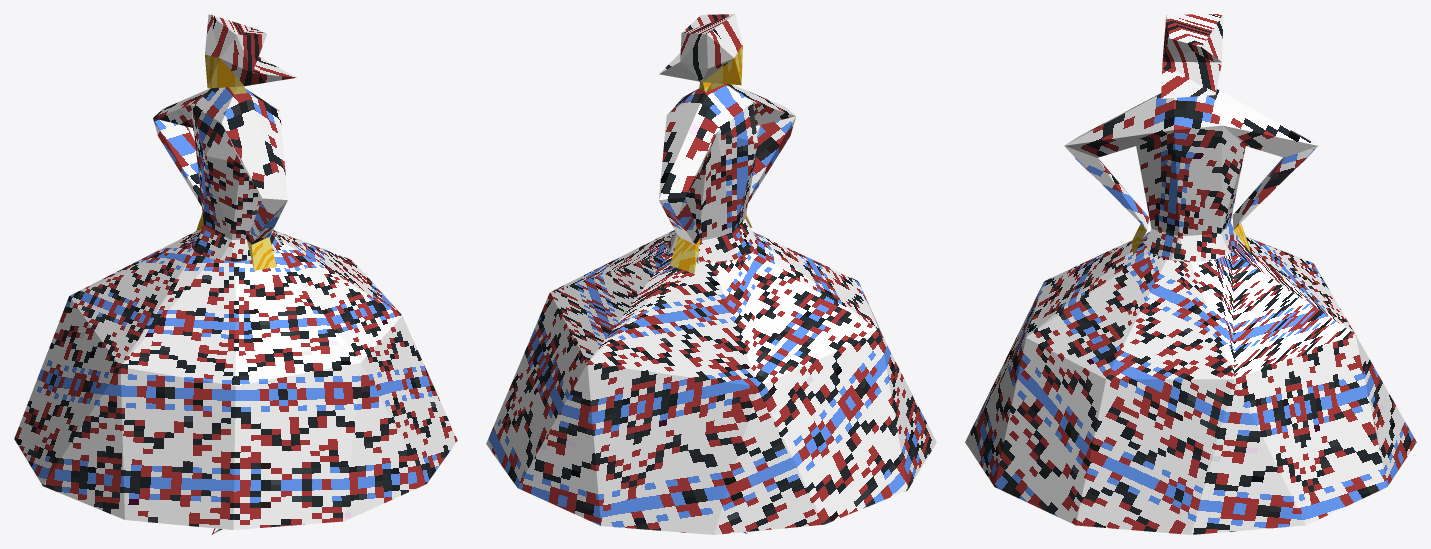
The model's file is lady.glb.
The picture shows the model from 3 angles, left to right: view 1: azimuth 30°, elevation 25°; view 2: azimuth 150°, elevation 25°; view 3: azimuth 270°, elevation 25°; orthographic projection.
Visible parts, largest first — view 1: lady; view 2: lady; view 3: lady.
Boxes of the visible parts, <box> form: lady: <box>14,14,457,534</box>; lady: <box>486,14,936,534</box>; lady: <box>965,14,1416,534</box>.
Bounding box in the file's own units: 1.26 × 1.51 × 1.26.
Materials: 2 (2 with a texture image).
